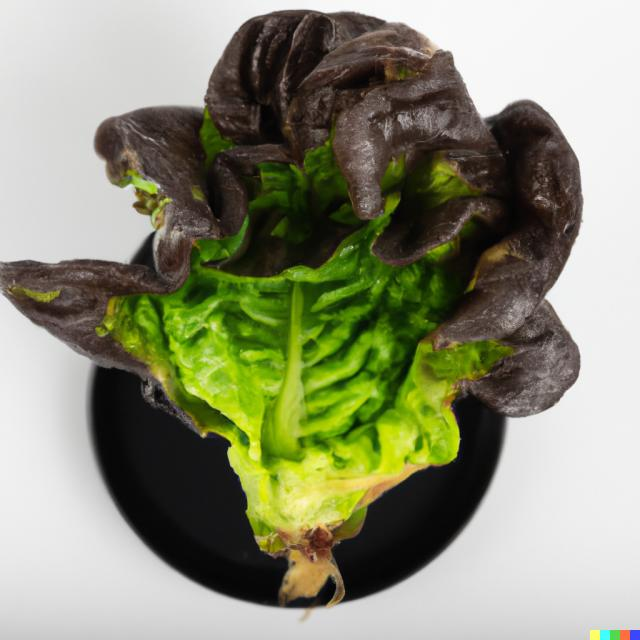-K: (0, 0, 595, 621)
